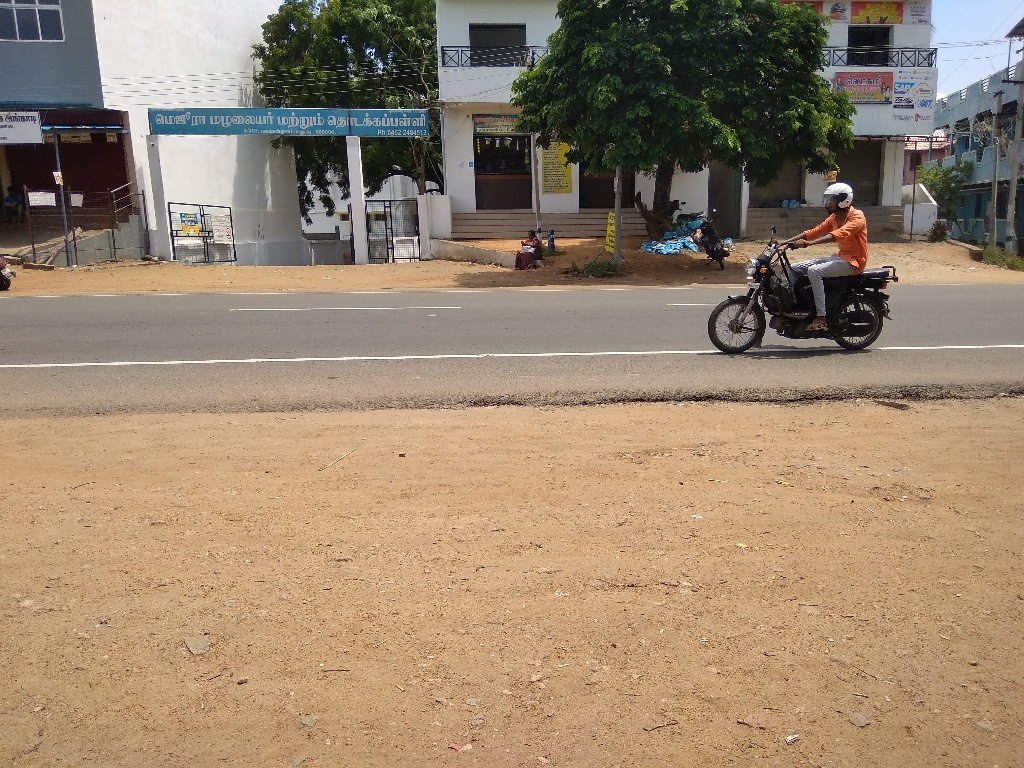biker: (696, 148, 911, 362)
helmet: (813, 173, 863, 222)
